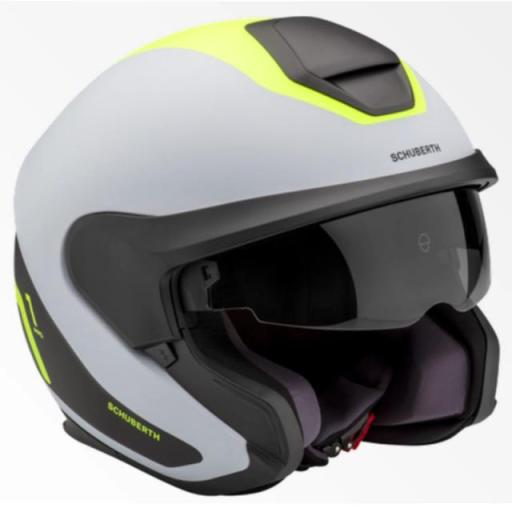Helmet: (16, 18, 498, 493)
